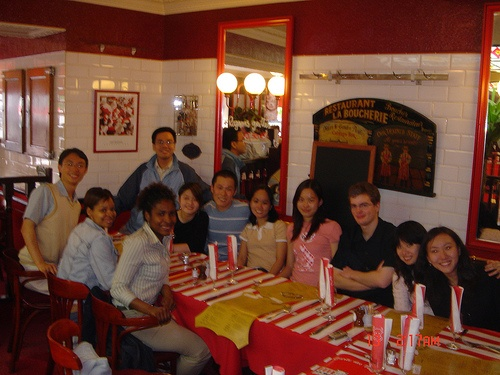head: (141, 182, 180, 240), (423, 227, 463, 278), (345, 179, 382, 227), (81, 186, 119, 229), (57, 144, 89, 190), (393, 224, 423, 269), (211, 167, 239, 209), (149, 123, 179, 161), (295, 180, 325, 218), (248, 186, 274, 220), (178, 181, 204, 215), (224, 126, 247, 155)
person: (107, 181, 228, 375), (112, 124, 212, 237), (324, 180, 399, 305), (18, 144, 87, 278), (416, 225, 498, 333), (272, 175, 341, 286), (55, 186, 120, 299), (233, 185, 286, 275), (200, 168, 249, 248), (390, 220, 427, 313), (171, 183, 207, 252), (221, 127, 245, 197)
